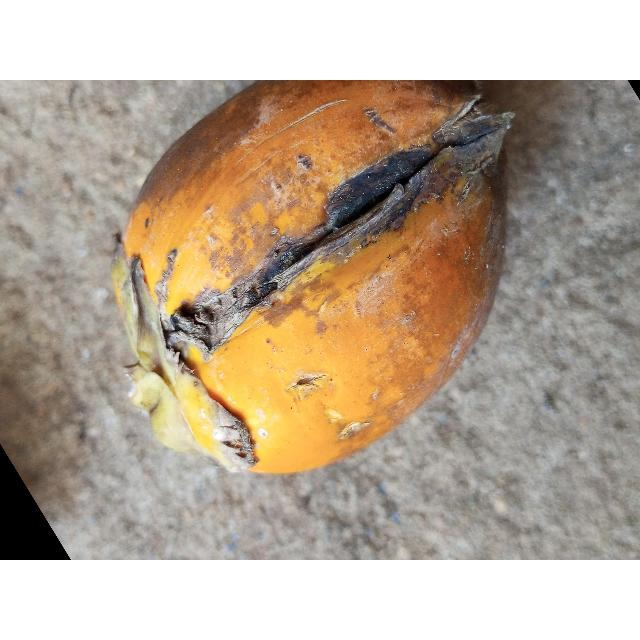damaged: (113, 80, 515, 473)
